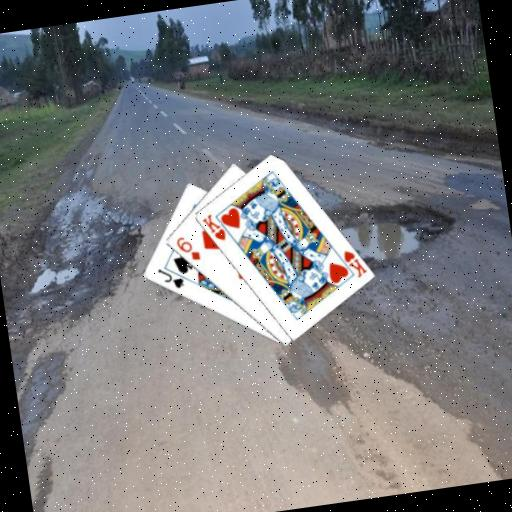6D: (172, 232, 202, 264)
JS: (154, 263, 186, 293)
KH: (339, 245, 369, 282), (198, 209, 228, 245)
